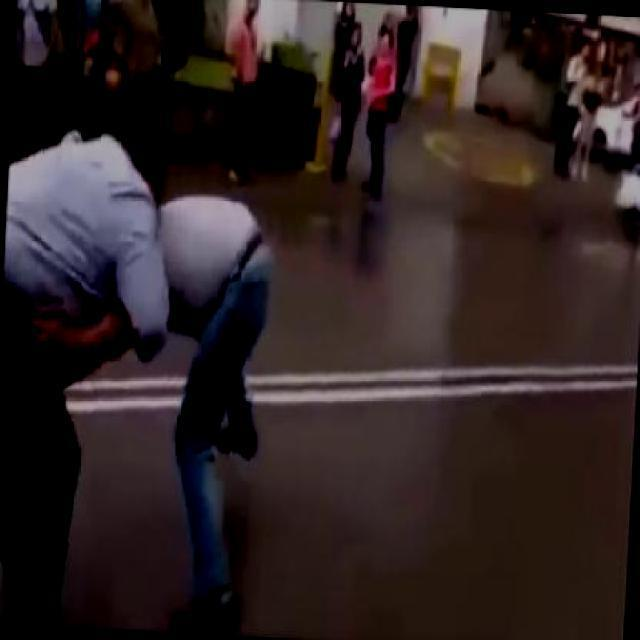fight: (0, 83, 289, 637)
